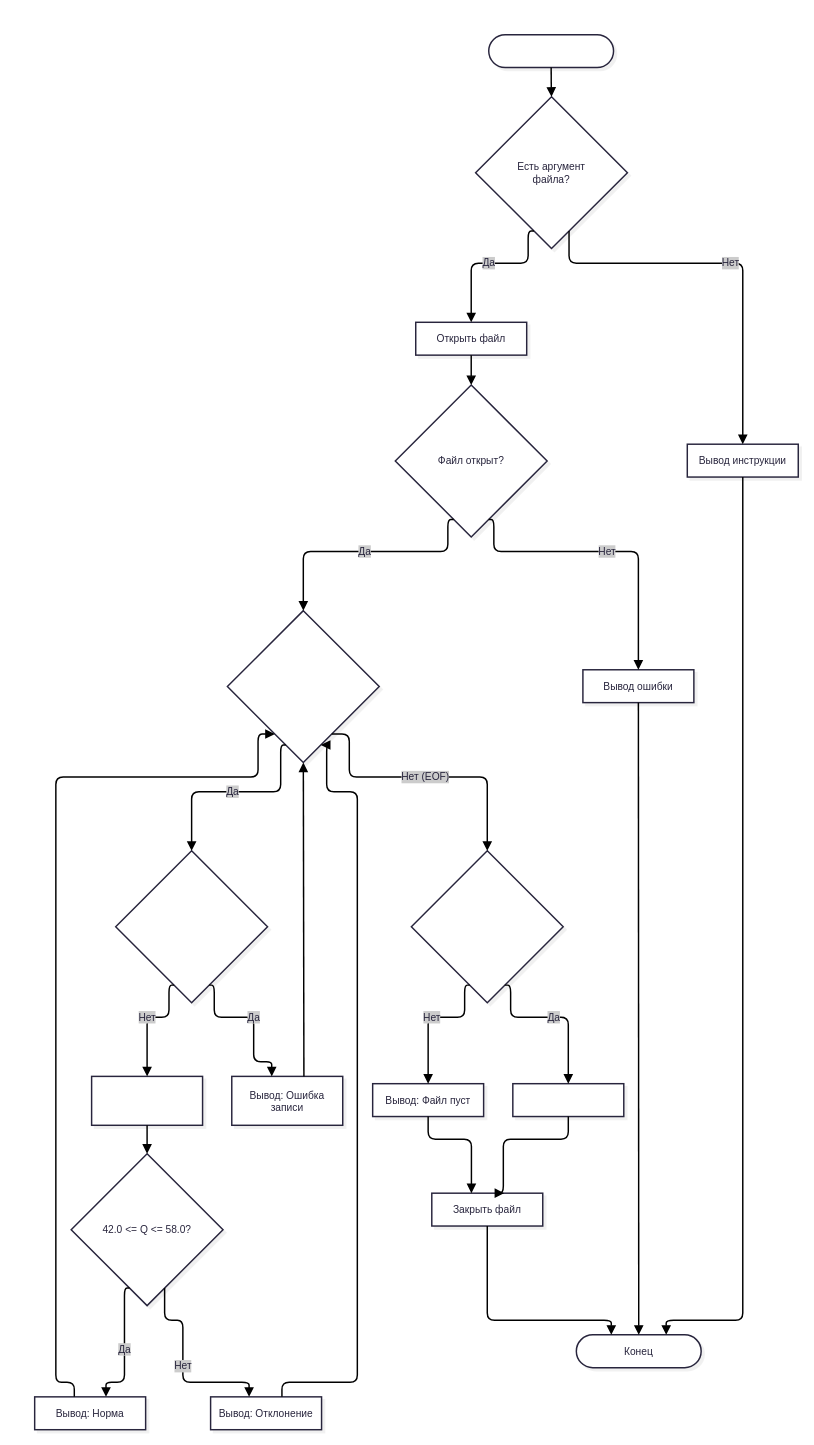
This 814x1445 diagram has some shape labels left out. Here are the shapes that lost their labels. From the top down, the centre of each, then its label:
point (552, 52): Начало
point (304, 688): Прочитать X (не EOF)?
point (193, 928): X < -1?
point (488, 928): Записей > 0?
point (148, 1102): Вычислить Q = compute_q(X)
point (569, 1101): Вывод итогов
